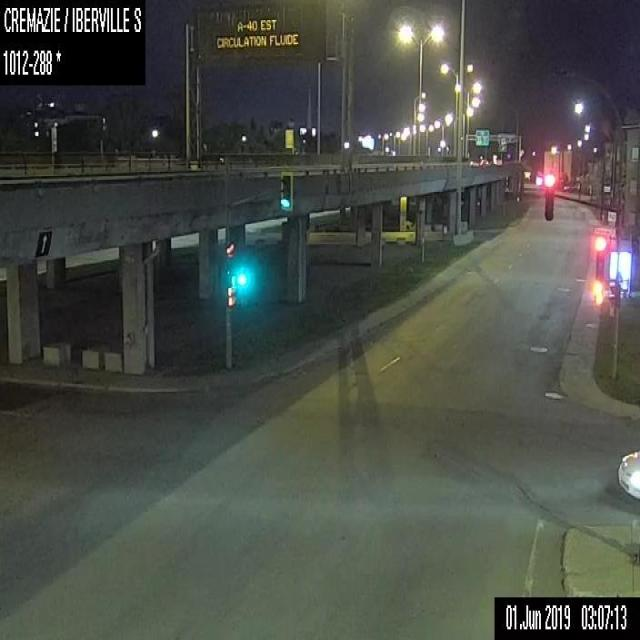vehicle: (617, 449, 639, 499), (469, 153, 487, 168)
